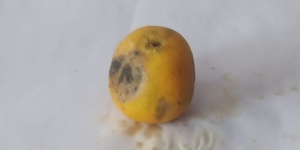BAD: (107, 21, 195, 125)
